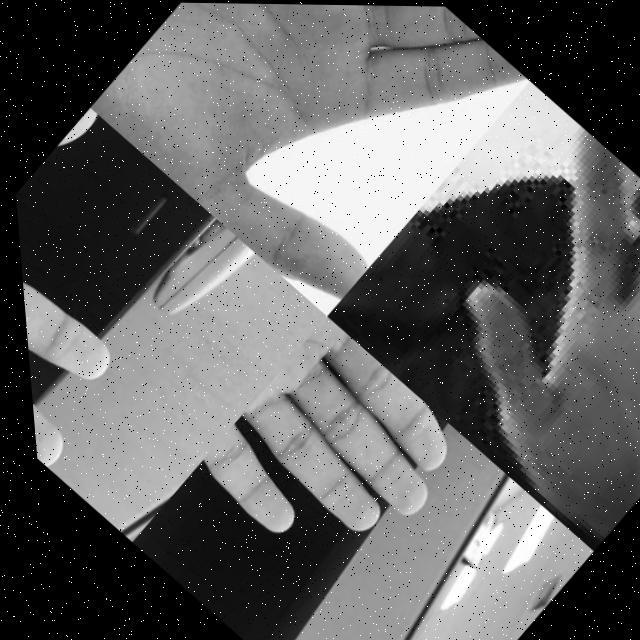no-gloves: (82, 1, 544, 317), (362, 121, 640, 544), (7, 106, 253, 471), (175, 314, 482, 606)
